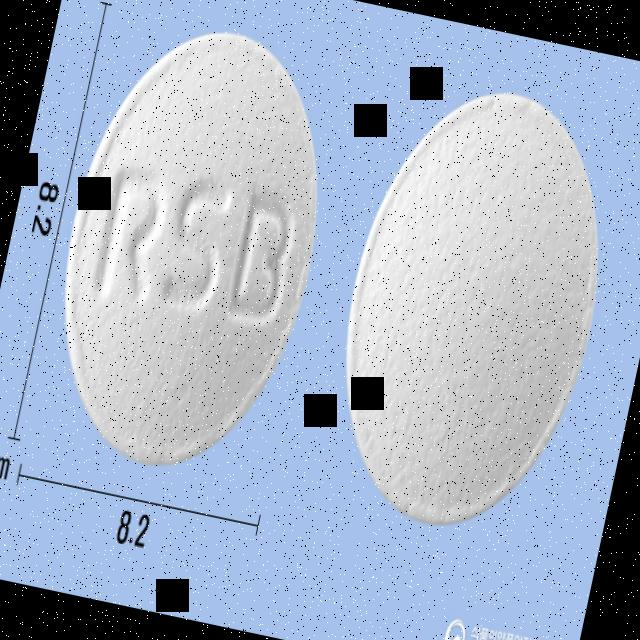Loxavit: (26, 6, 355, 489)
